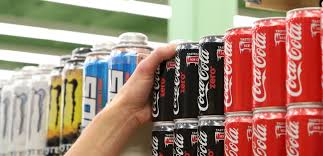coke: (286, 9, 323, 104), (252, 23, 289, 113), (227, 30, 254, 111), (199, 37, 224, 118), (175, 45, 199, 121), (286, 110, 323, 153), (253, 117, 285, 156), (155, 61, 174, 125), (225, 116, 252, 156), (199, 120, 226, 156), (174, 122, 197, 156), (151, 125, 173, 154)
